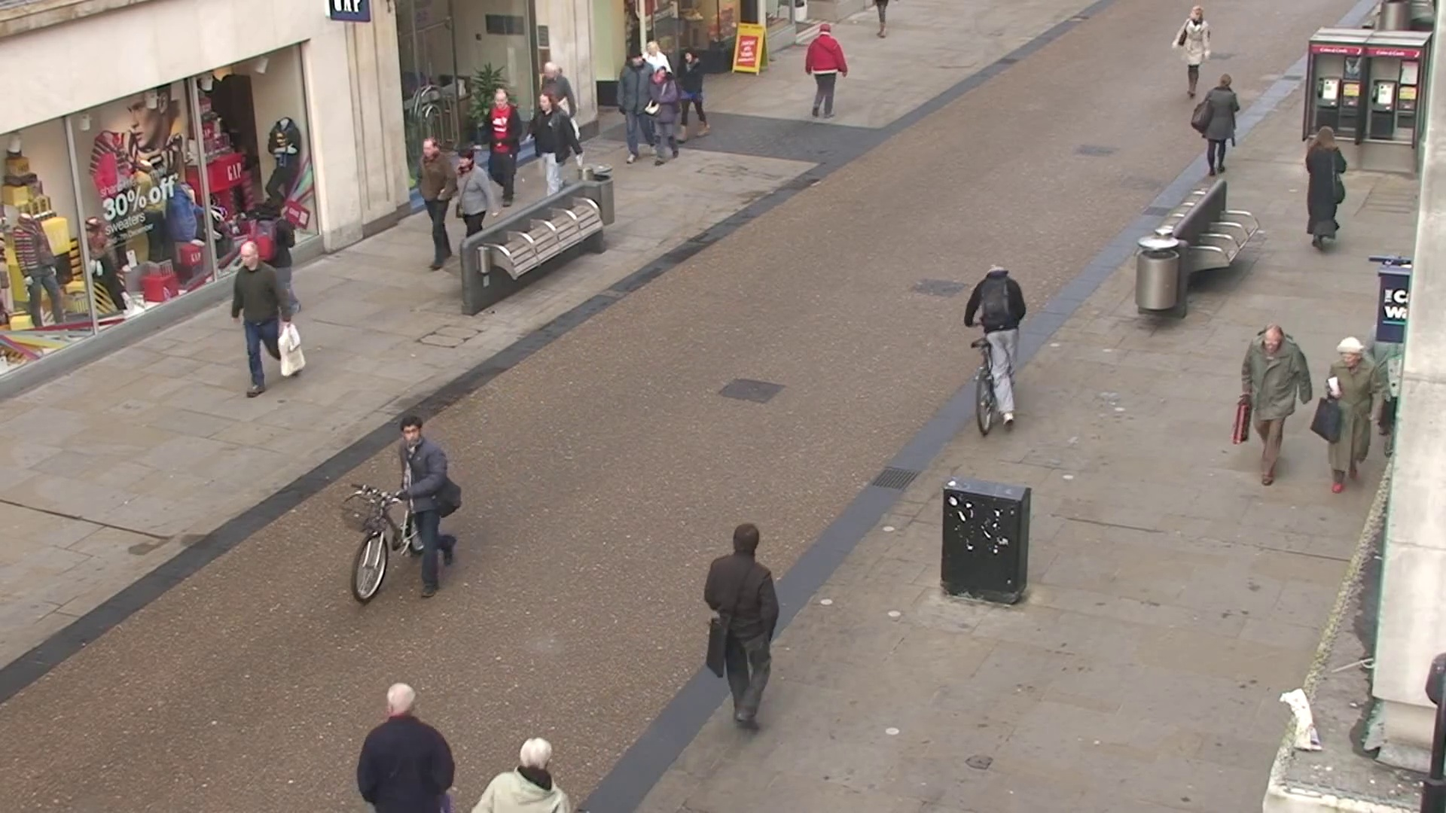person: (703, 524, 781, 735), (356, 683, 457, 813), (1244, 321, 1314, 491), (1314, 334, 1387, 494), (395, 416, 461, 580), (962, 266, 1027, 415), (230, 242, 288, 399), (471, 737, 569, 813), (417, 136, 461, 272), (1304, 124, 1350, 250), (452, 152, 498, 274), (532, 82, 584, 188), (1193, 75, 1244, 178), (617, 50, 657, 164), (804, 22, 851, 119), (487, 87, 519, 204)
